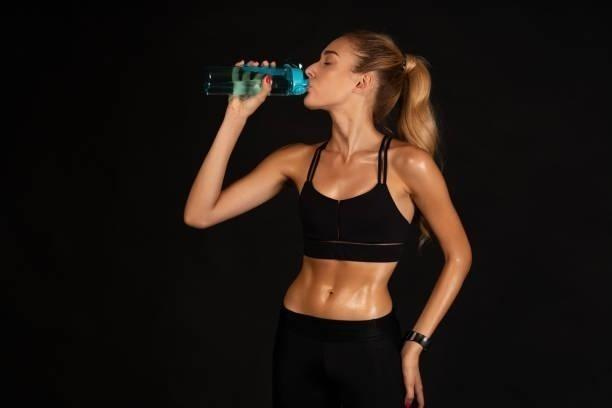bottle-plastic: (201, 59, 310, 100)
